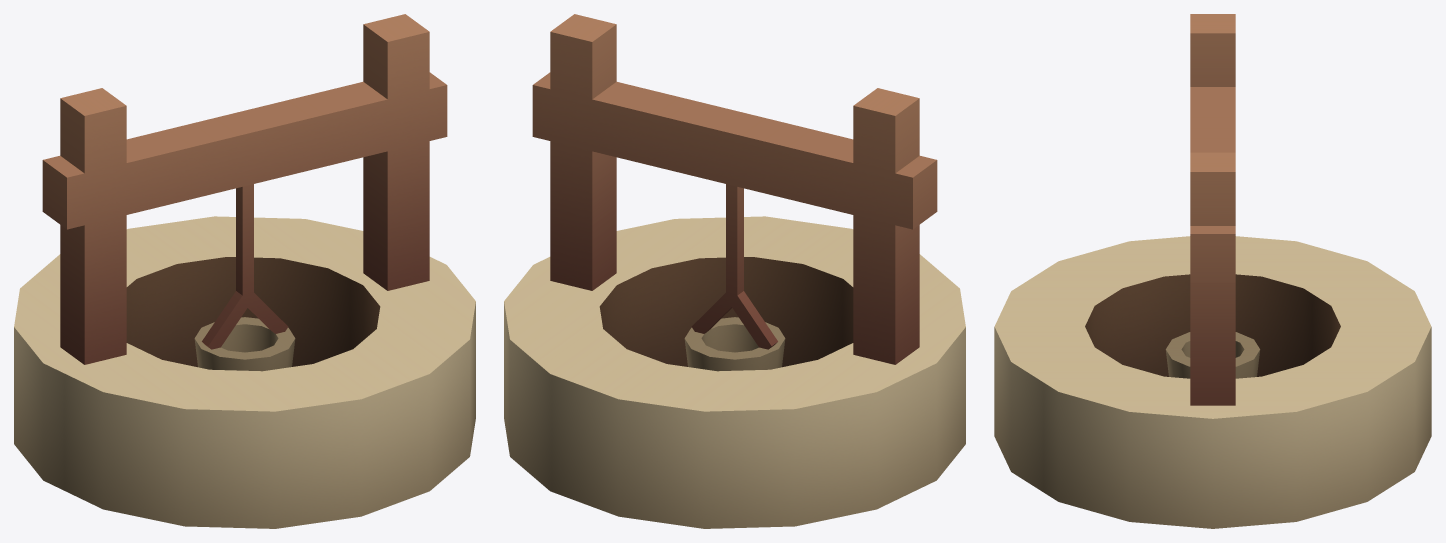
Rendered from SM_Well_Round.fbx.
3 renders of one model, left to right at view 1: azimuth 30°, elevation 25°; view 2: azimuth 150°, elevation 25°; view 3: azimuth 270°, elevation 25°, orthographic. The views are drawn at different scales.
Visible parts, largest first — view 1: Well_Round; view 2: Well_Round; view 3: Well_Round.
Part boxes in pixels (box(x1,y1,x2,y2)): Well_Round: box(14, 14, 475, 528); Well_Round: box(504, 14, 965, 528); Well_Round: box(994, 14, 1431, 528).
Bounding box in the file's own units: 339 × 294 × 339.
